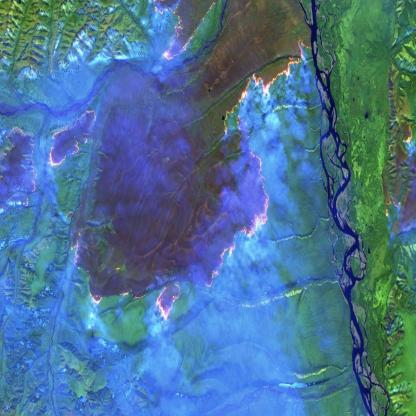fire: (0, 0, 416, 326)
